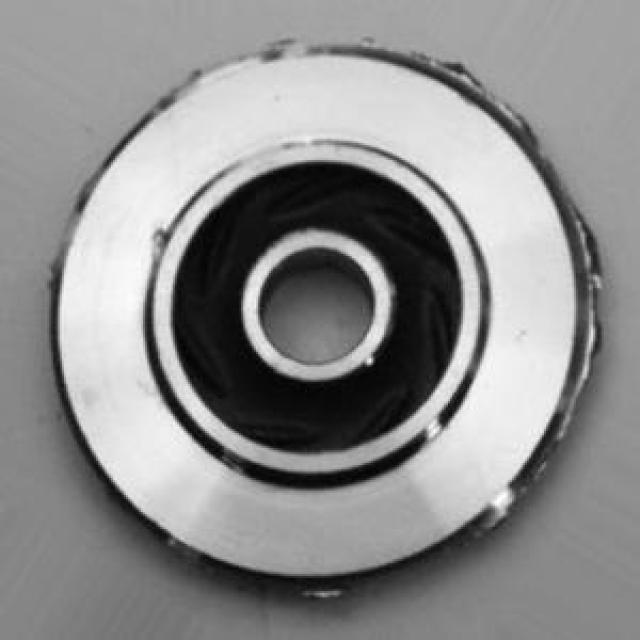Defect: (140, 207, 179, 278)
